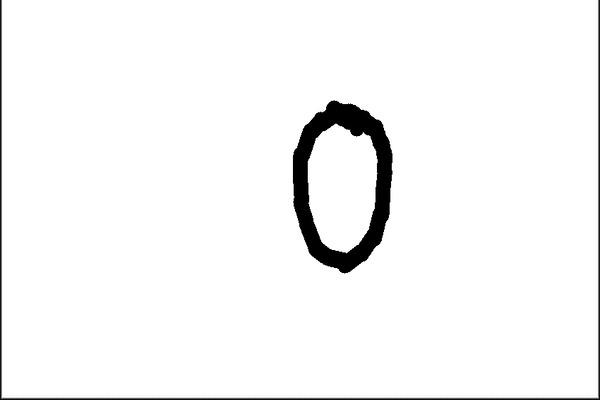O: (279, 92, 404, 281)
